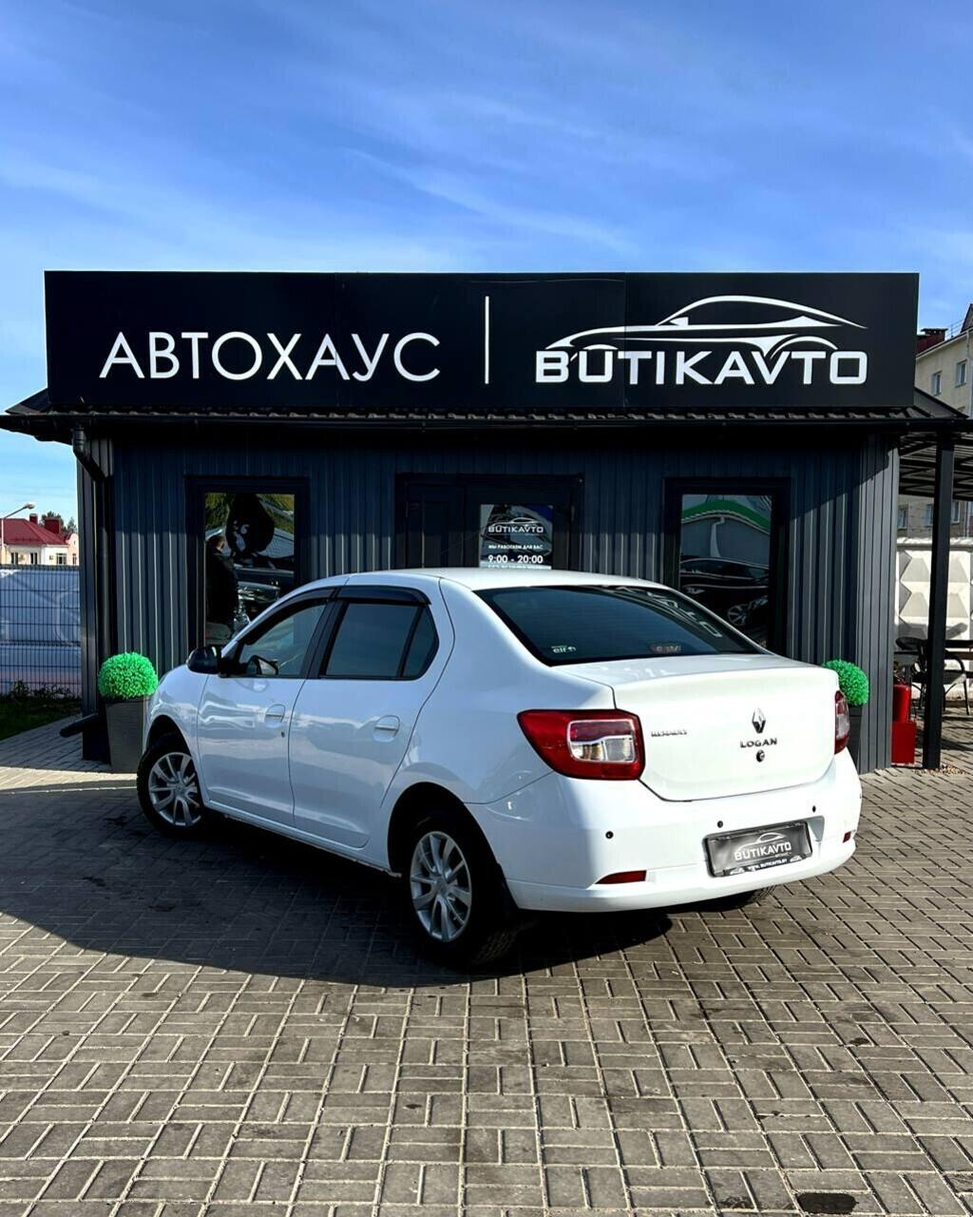Logan_2013-2018: (124, 563, 879, 960)
